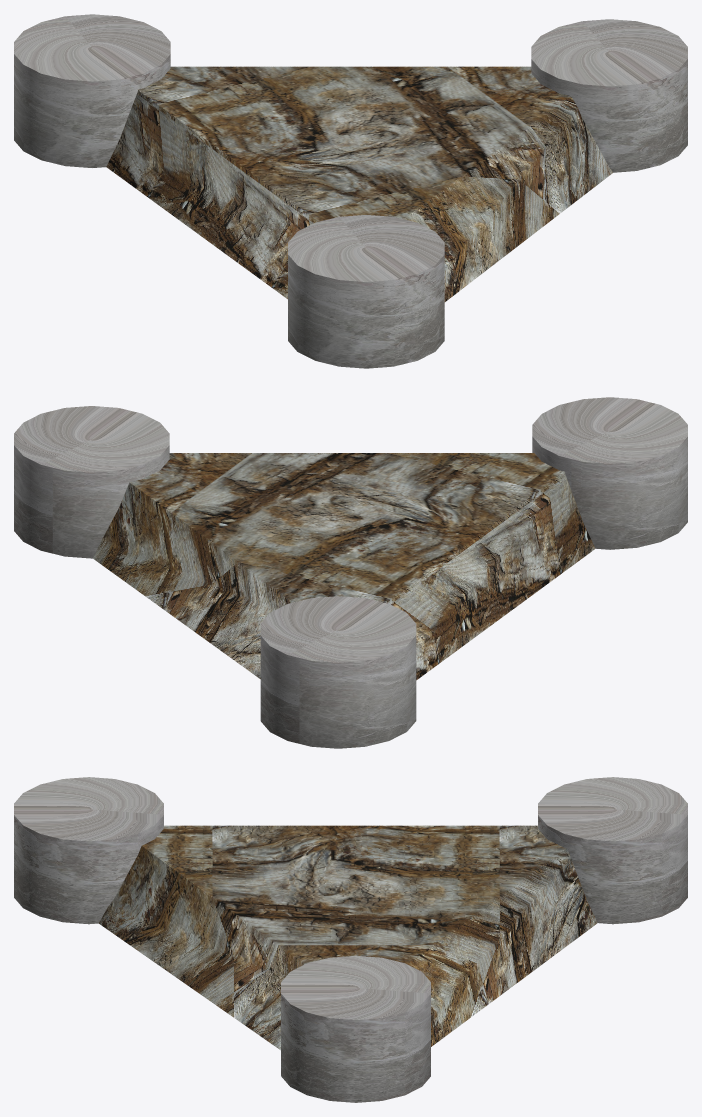
File: Triangle Platform.FBX
3 renders of one model, top to bottom at view 1: azimuth 30°, elevation 25°; view 2: azimuth 150°, elevation 25°; view 3: azimuth 270°, elevation 25°, orthographic. The views are drawn at different scales.
Visible parts, largest first — view 1: Cone001, Cylinder003, Cylinder002, Cylinder001; view 2: Cone001, Cylinder002, Cylinder003, Cylinder001; view 3: Cone001, Cylinder001, Cylinder003, Cylinder002.
Part boxes in pixels (x1,y1,x2,y2): Cone001: (106, 66, 612, 301); Cylinder003: (288, 215, 444, 368); Cylinder002: (14, 14, 170, 167); Cylinder001: (531, 19, 687, 172); Cone001: (93, 453, 595, 680); Cylinder002: (260, 596, 416, 748); Cylinder003: (532, 397, 687, 549); Cylinder001: (14, 406, 169, 558); Cone001: (99, 825, 597, 1050); Cylinder001: (281, 955, 430, 1102); Cylinder003: (14, 777, 163, 924); Cylinder002: (538, 777, 687, 924).
Size of the model in its own units: 75.53 by 12 by 88.51.
